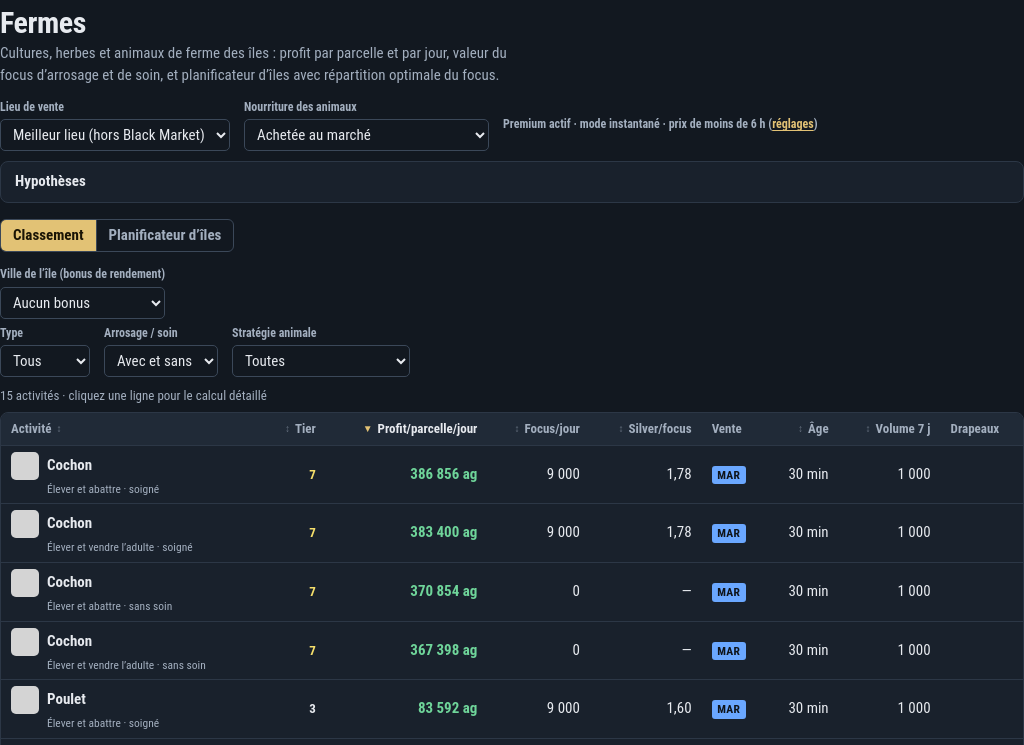
Test: page Fermes › planificateur : 2 jardins de cardère, 10 000 focus → 1 arrosé, 1 000 restant
Click the tab "Planificateur d’îles" at {"x": 164, "y": 236}, box left=96, top=220, right=233, bottom=251
(page scrolled)
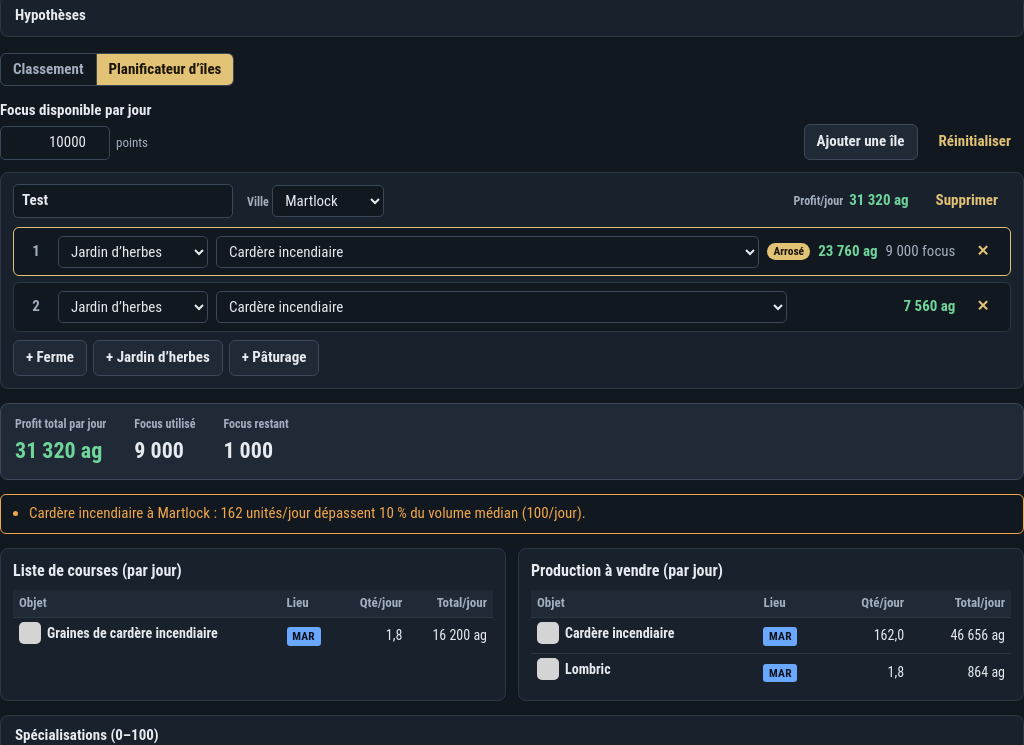
Now the text "31 320 ag" next to "Profit/jour" is shown, box left=849, top=191, right=909, bottom=209
Now the text "Arrosé" is shown once, box left=767, top=243, right=810, bottom=260
Now the list named "Avertissements" is shown, box left=0, top=494, right=1023, bottom=534
